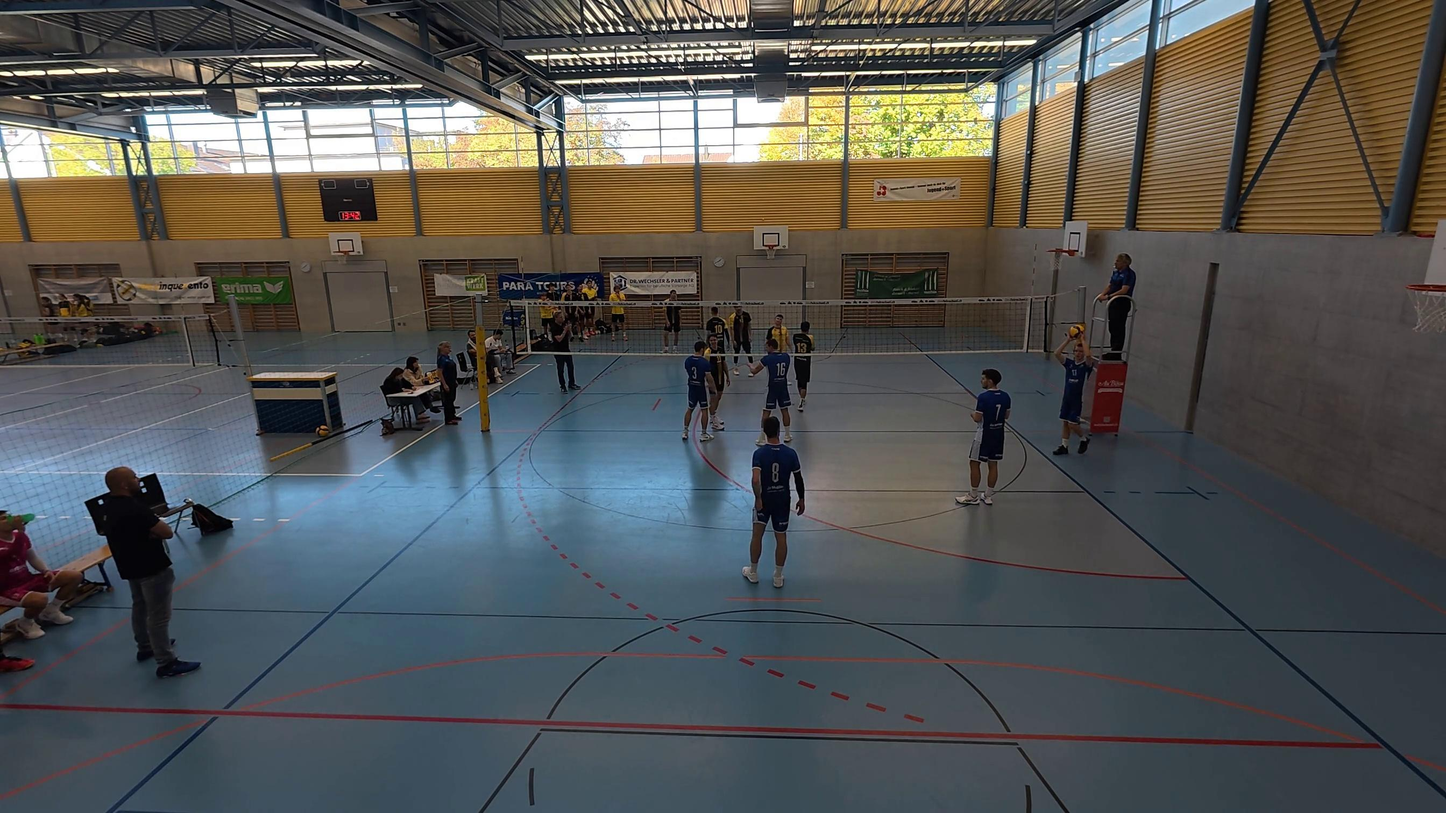Player: (743, 414, 806, 587), (955, 369, 1010, 505), (1051, 335, 1098, 456), (753, 338, 795, 444), (684, 340, 715, 442), (703, 304, 733, 393), (702, 335, 729, 433), (791, 320, 817, 409), (731, 300, 755, 372), (660, 287, 684, 356), (766, 313, 788, 355)
ball: (1068, 324, 1087, 337)
